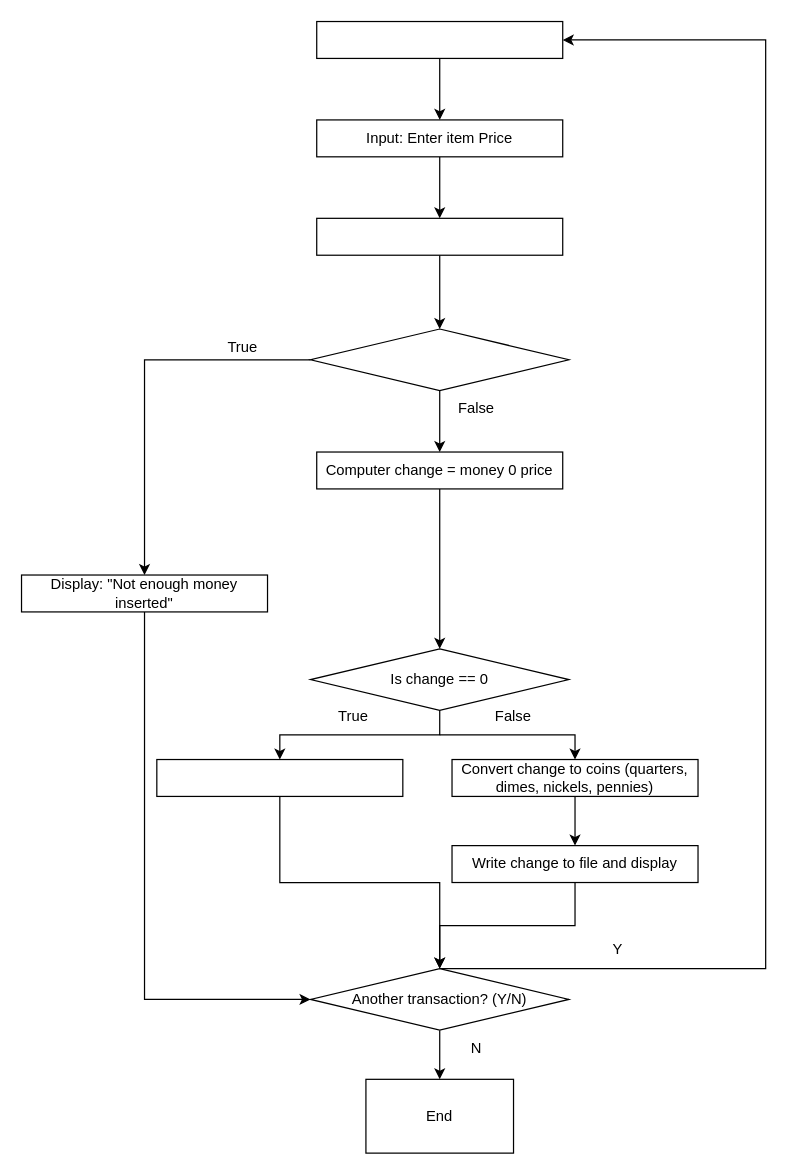
This 797x1175 diagram has some shape labels left out. The box of each missing label's shape, as (x1, y1, x2, y2) in pixels:
Input: Enter amount of money deposited: (315, 217, 563, 255)
Is money < price?: (309, 328, 569, 391)
Start: (315, 20, 563, 58)
Write to file and display : "No Change": (156, 758, 403, 796)
